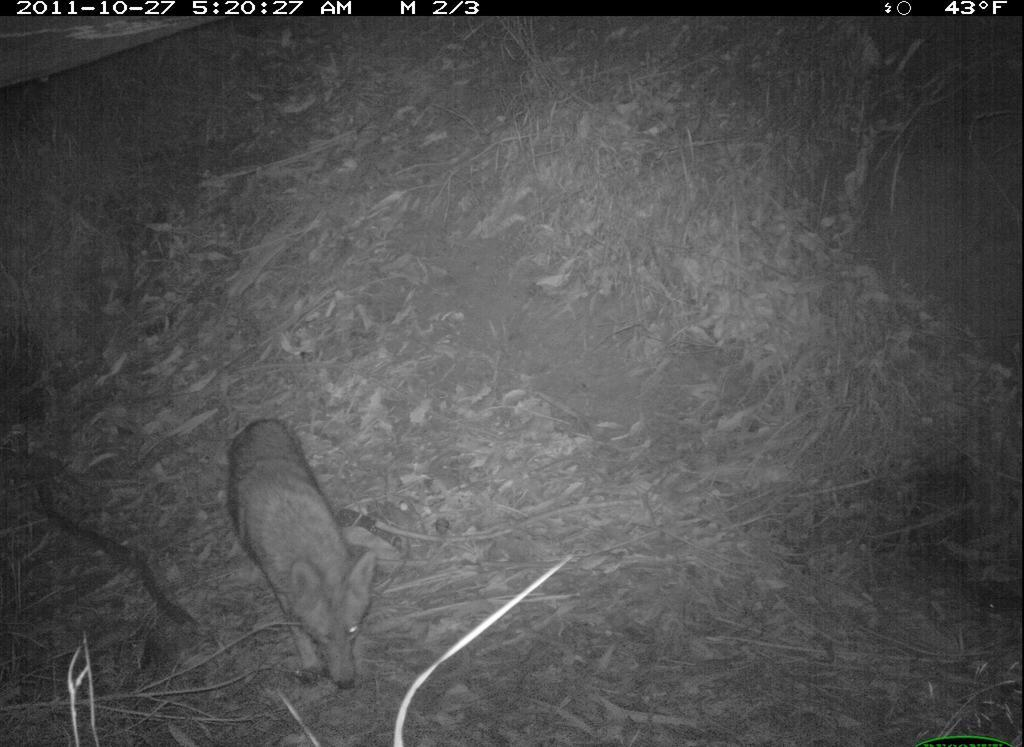coyote: (223, 411, 391, 701)
